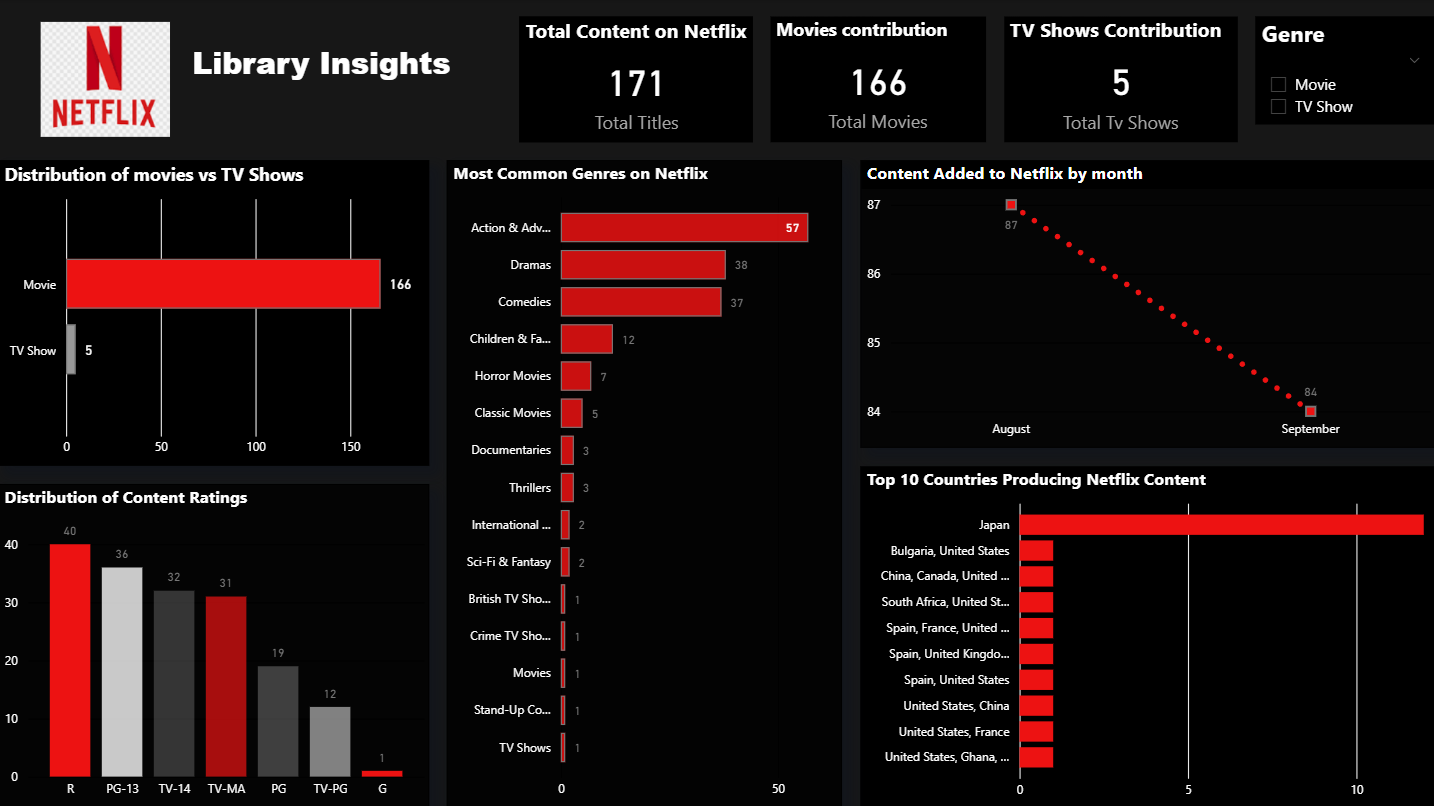

This screenshot's page, from the dashboard's own definition file:
{"tool":"powerbi","page":{"name":"Page 1","canvas":[1280,720],"ordinal":0},"visuals":[{"type":"barChart","title":"Distribution of movies vs TV Shows","fields":{"Y":["CountNonNull(netflix_project netflix_clean_data.show_id)"],"Category":["netflix_project netflix_clean_data.type"]},"box":[0,144,384,272],"z":0},{"type":"lineChart","title":"Content Added to Netflix by month","fields":{"Category":["netflix_project netflix_clean_data.date_added_new.Variation.Date Hierarchy.Month"],"Y":["CountNonNull(netflix_project netflix_clean_data.show_id)"]},"box":[768,144,512,256],"z":1000},{"type":"barChart","title":"Top 10 Countries Producing Netflix Content","fields":{"Y":["CountNonNull(netflix_project netflix_clean_data.show_id)"],"Category":["netflix_project netflix_clean_data.country"]},"box":[768,416,512,304],"z":2000},{"type":"columnChart","title":"Distribution of Content Ratings","fields":{"Category":["netflix_project netflix_clean_data.rating"],"Y":["CountNonNull(netflix_project netflix_clean_data.show_id)"]},"box":[0,432,384,288],"z":3000},{"type":"barChart","title":"Most Common Genres on Netflix","fields":{"Y":["CountNonNull(netflix_project netflix_clean_data.show_id)"],"Category":["netflix_project netflix_clean_data.listed_in.1"]},"box":[400,144,352,576],"z":4000},{"type":"card","title":"TV Shows Contribution","fields":{"Values":["netflix_project netflix_clean_data.Total Tv Shows"]},"box":[896,16,208,112],"z":5000},{"type":"slicer","title":"Genre","fields":{"Values":["netflix_project netflix_clean_data.type"]},"box":[1120,16,160,96],"z":6000},{"type":"card","title":"Total Content on Netflix","fields":{"Values":["netflix_project netflix_clean_data.Total Titles"]},"box":[464,16,208,112],"z":7000},{"type":"card","title":"Movies contribution","fields":{"Values":["netflix_project netflix_clean_data.Total Movies"]},"box":[688,16,192,112],"z":8000},{"type":"textbox","box":[128,32,320,80],"z":9000},{"type":"image","box":[16,16,160,112],"z":10000}]}

Visuals, with their boxes in screenshot pixels (x1, y1, x2, y2), scaled from the page's 1280x720 canvas onto the 1434x806 screenshot:
"Distribution of movies vs TV Shows" barChart: <region>0, 161, 430, 466</region>
"Content Added to Netflix by month" lineChart: <region>860, 161, 1433, 448</region>
"Top 10 Countries Producing Netflix Content" barChart: <region>860, 466, 1433, 805</region>
"Distribution of Content Ratings" columnChart: <region>0, 484, 430, 805</region>
"Most Common Genres on Netflix" barChart: <region>448, 161, 842, 805</region>
"TV Shows Contribution" card: <region>1004, 18, 1237, 143</region>
"Genre" slicer: <region>1255, 18, 1433, 125</region>
"Total Content on Netflix" card: <region>520, 18, 753, 143</region>
"Movies contribution" card: <region>771, 18, 986, 143</region>
textbox: <region>143, 36, 502, 125</region>
image: <region>18, 18, 197, 143</region>
